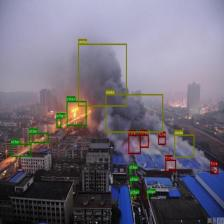fire: (128, 134, 140, 154), (165, 160, 176, 171), (140, 134, 148, 148), (210, 165, 218, 174), (158, 136, 165, 145)
smoke: (78, 43, 126, 106), (105, 94, 163, 132), (174, 134, 194, 158)
